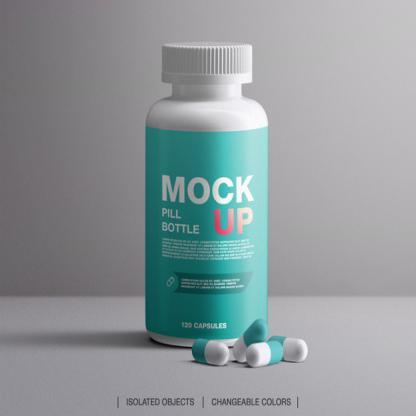jar: (145, 43, 268, 357)
